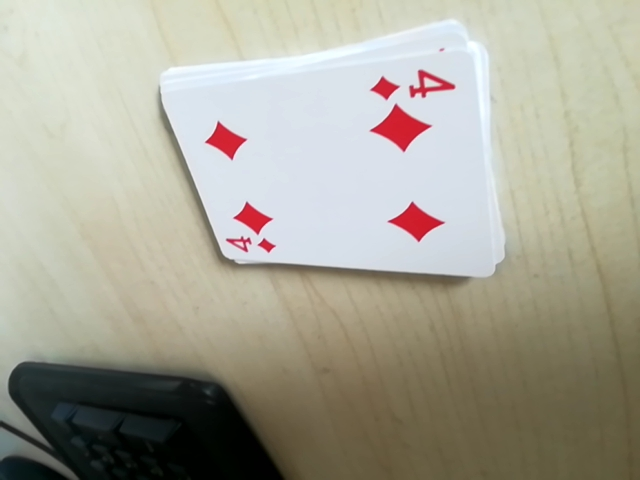fk 4: (373, 56, 461, 104), (218, 227, 281, 262)
